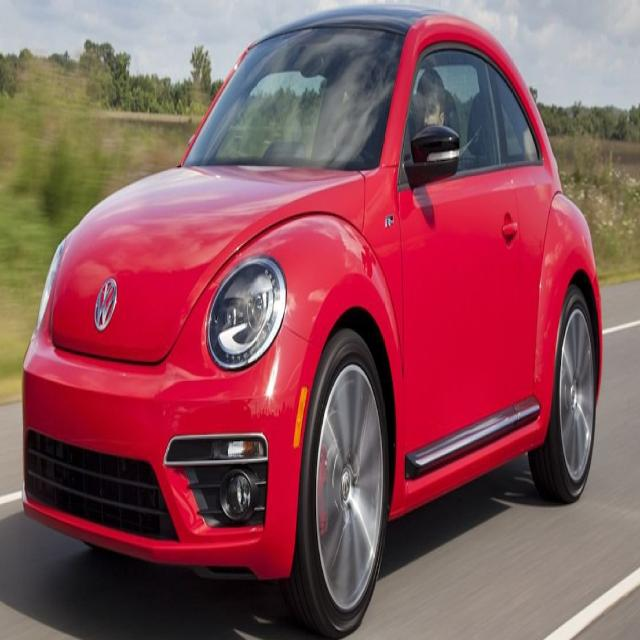red: (18, 0, 597, 628)
